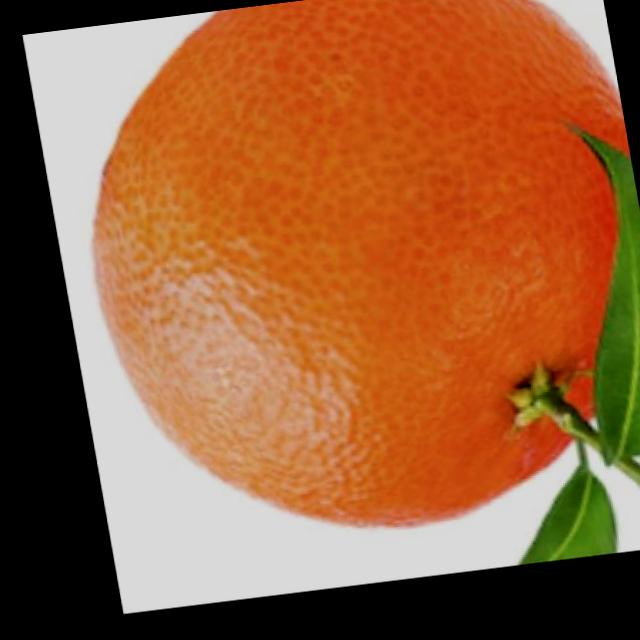Orange: (48, 0, 640, 563)
